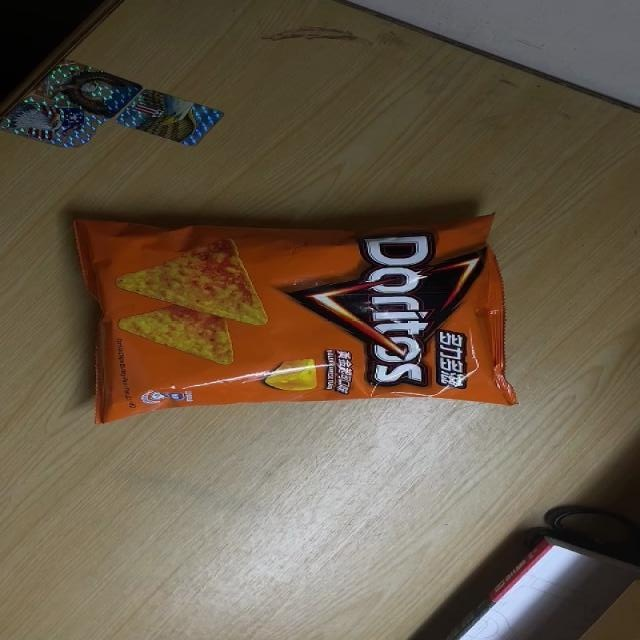Doritos: (72, 211, 522, 423)
